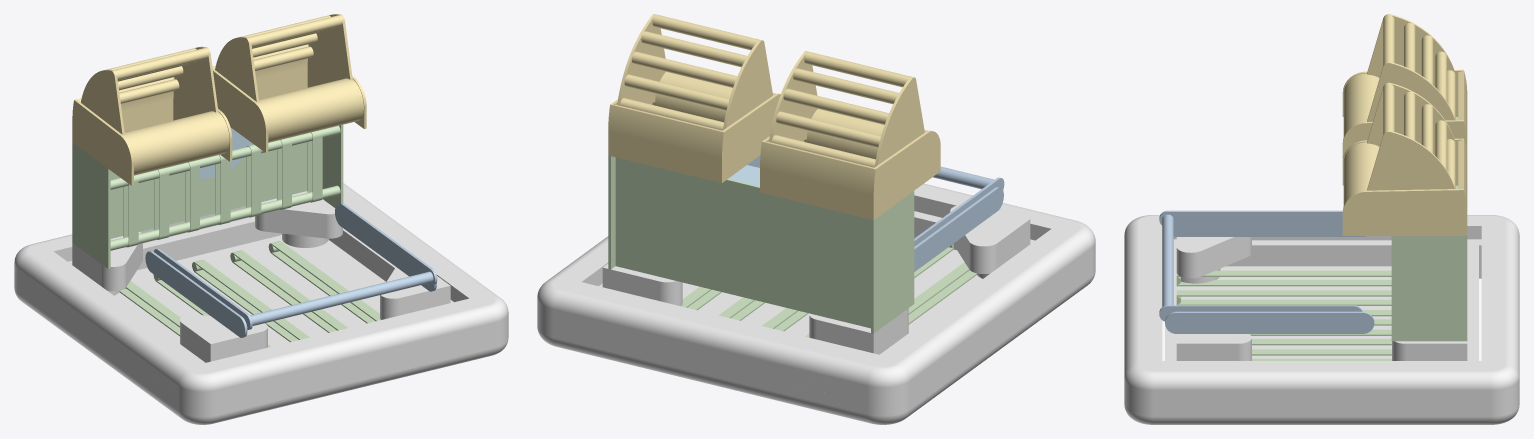
3 renders of one model, left to right at view 1: azimuth 30°, elevation 25°; view 2: azimuth 150°, elevation 25°; view 3: azimuth 270°, elevation 25°, orthographic. The views are drawn at different scales.
Parts seen in each view (by area): view 1: mesh74_mesh; view 2: mesh74_mesh; view 3: mesh74_mesh.
Boxes of the visible parts, left/top/right/bottom form: mesh74_mesh: left=14, top=14, right=508, bottom=424; mesh74_mesh: left=537, top=14, right=1095, bottom=424; mesh74_mesh: left=1124, top=14, right=1519, bottom=424.
Size of the model in its own units: 0.8636 by 0.6562 by 0.8636.
